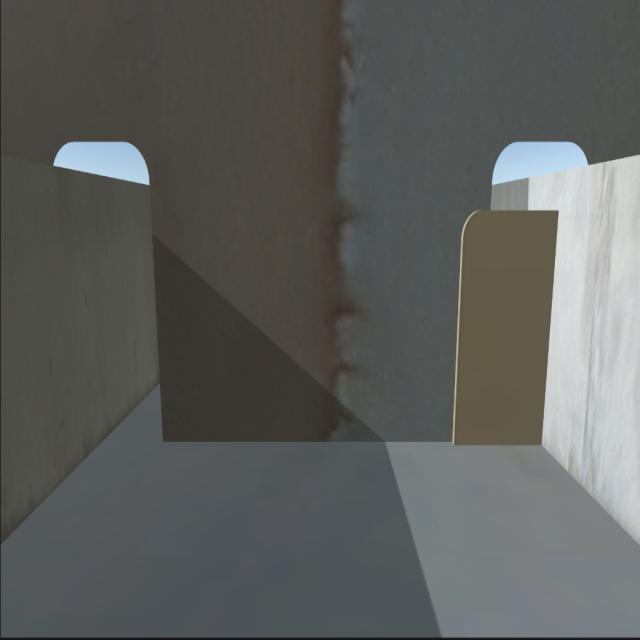fillet_yong_jeop_jang: (159, 426, 546, 450)
longi_yong_jeop_jang: (538, 207, 550, 452)
plate_CP05: (455, 204, 546, 446)
